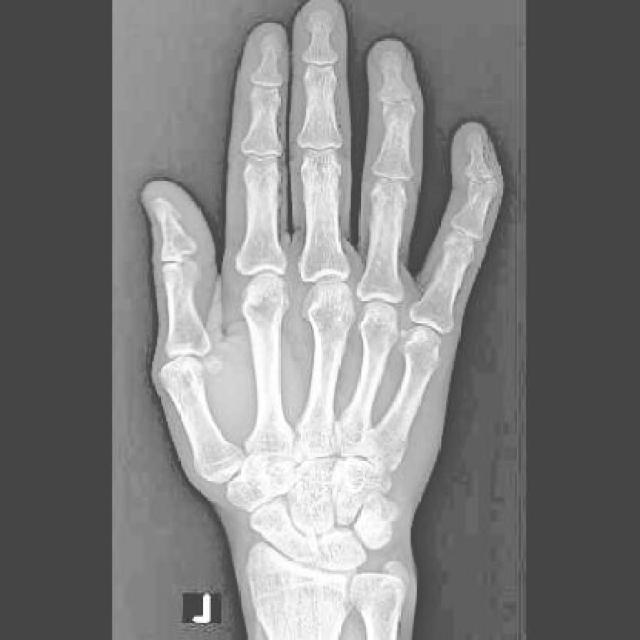Fracture: (473, 177, 502, 203)
